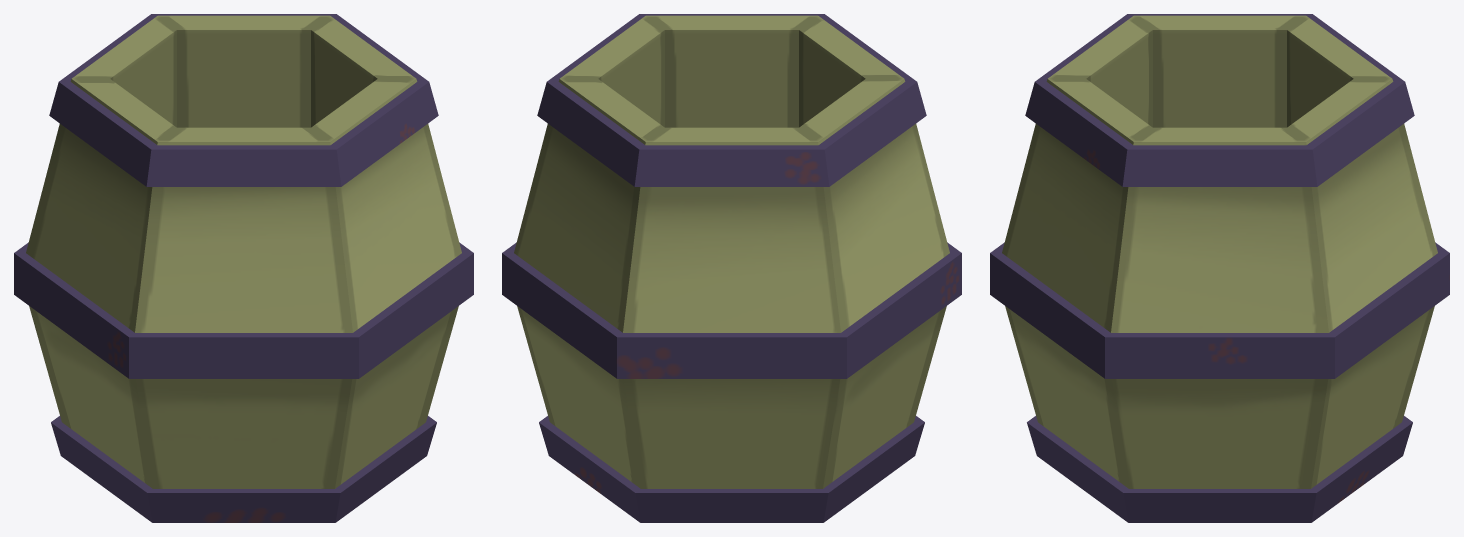
File: BarrilBuild.fbx
3 views of the same model, side by side, from view 1: azimuth 30°, elevation 25°; view 2: azimuth 150°, elevation 25°; view 3: azimuth 270°, elevation 25° (orthographic).
Parts seen in each view (by area): view 1: BarrilModelo; view 2: BarrilModelo; view 3: BarrilModelo.
Part boxes in pixels (x1,y1,x2,y2): BarrilModelo: (14, 14, 473, 522); BarrilModelo: (502, 14, 961, 522); BarrilModelo: (990, 14, 1449, 522).
Bounding box in the file's own units: 21.69 × 22.66 × 25.05.
